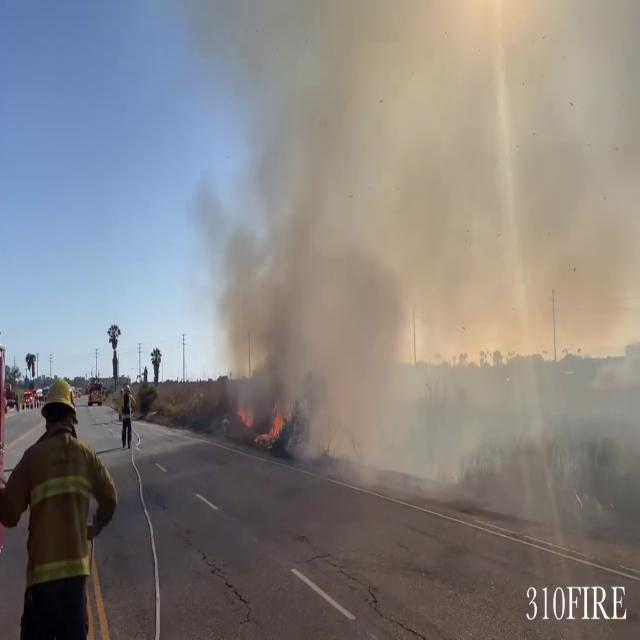Smoke: (213, 1, 640, 490)
